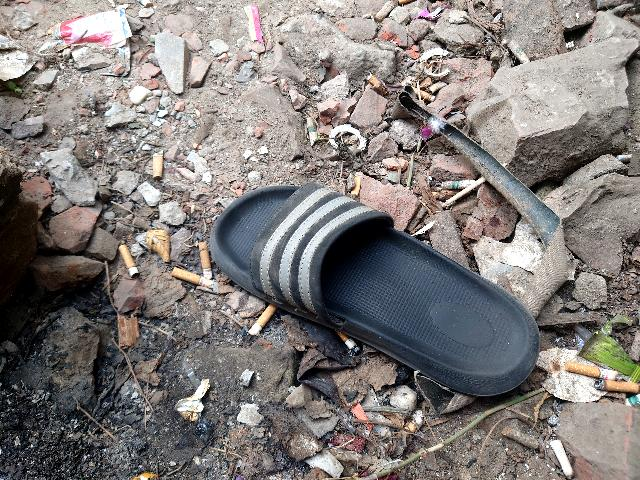sandal: (192, 139, 542, 427)
